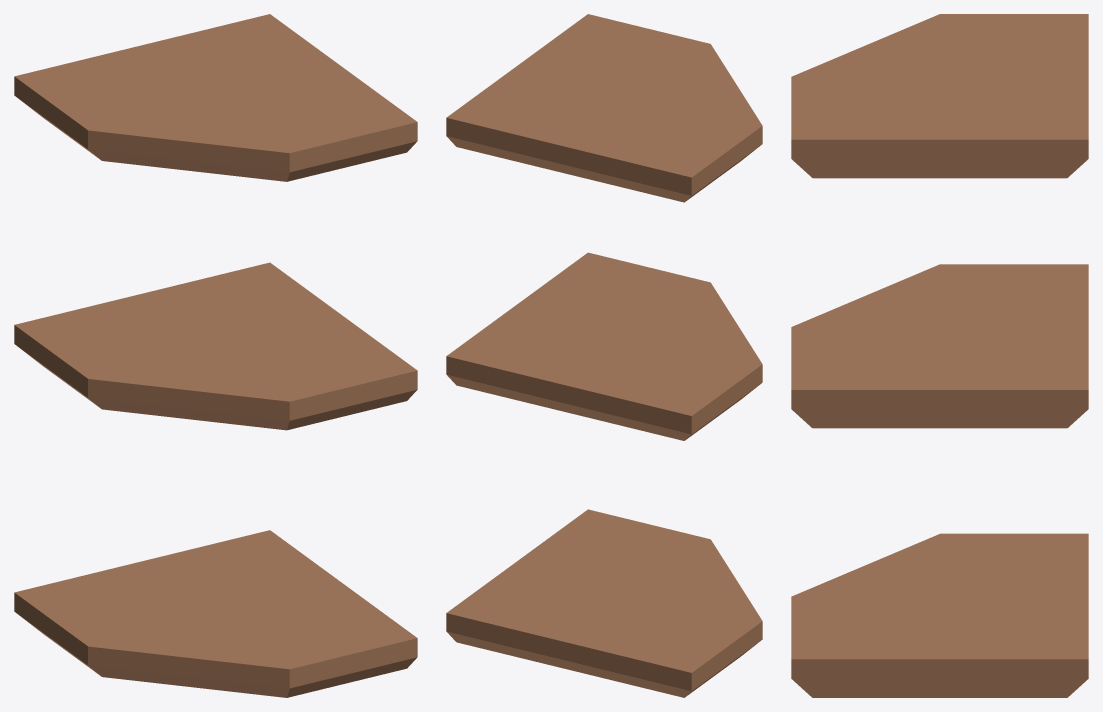
Rendered from Structure_Kitchen_Cabinet_Side_Shelves.obj.
The picture shows the model from 3 angles, left to right: view 1: azimuth 30°, elevation 25°; view 2: azimuth 150°, elevation 25°; view 3: azimuth 270°, elevation 25°; orthographic projection. The views are drawn at different scales.
Parts seen in each view (by area): view 1: object1, object2, object3; view 2: object1, object2, object3; view 3: object2, object1, object3.
Boxes of the visible parts, x1=… form: object1: x1=14, y1=262, x2=417, y2=430; object2: x1=14, y1=14, x2=417, y2=181; object3: x1=14, y1=530, x2=417, y2=697; object1: x1=446, y1=252, x2=762, y2=440; object2: x1=446, y1=14, x2=762, y2=202; object3: x1=446, y1=509, x2=762, y2=697; object2: x1=791, y1=14, x2=1088, y2=178; object1: x1=791, y1=264, x2=1088, y2=428; object3: x1=791, y1=533, x2=1088, y2=697.
Bounding box in the file's own units: 0.35 × 0.725 × 0.35.
